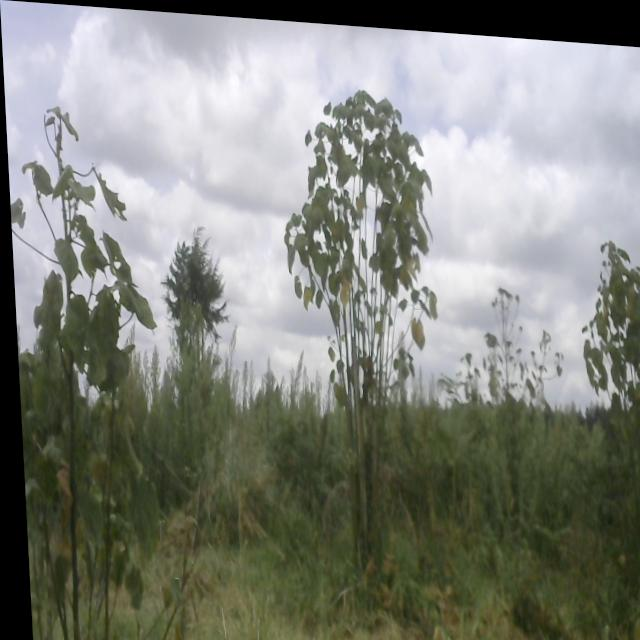cedrus: (152, 214, 231, 382)
other: (4, 94, 164, 640), (280, 75, 448, 582), (569, 219, 640, 439)
